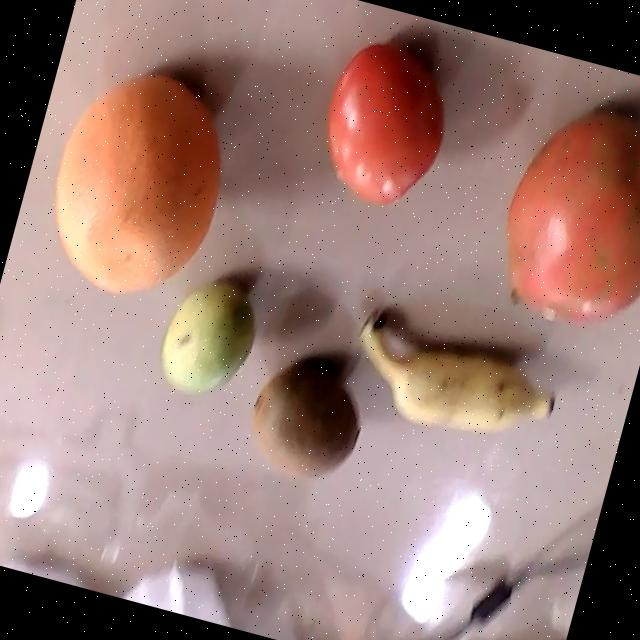kiwi: (251, 362, 360, 477)
lemon: (159, 283, 256, 395)
orange: (53, 71, 221, 293)
pomegranate: (505, 106, 640, 325)
tomato: (326, 42, 444, 203)
